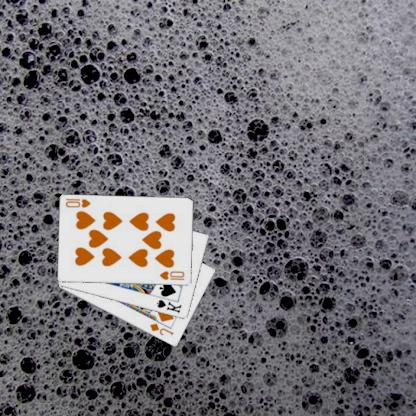10H: (65, 196, 94, 209), (159, 269, 187, 281)
JD: (149, 321, 177, 337)
KS: (156, 297, 184, 315)
